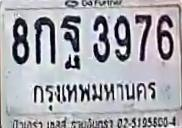3: (92, 15, 109, 62)
6: (156, 14, 174, 60)
7: (134, 14, 152, 61)
8: (11, 17, 29, 64)
9: (113, 15, 131, 61)
A01: (34, 16, 55, 64)
A16: (60, 15, 81, 62)
BKK: (28, 76, 160, 111)
